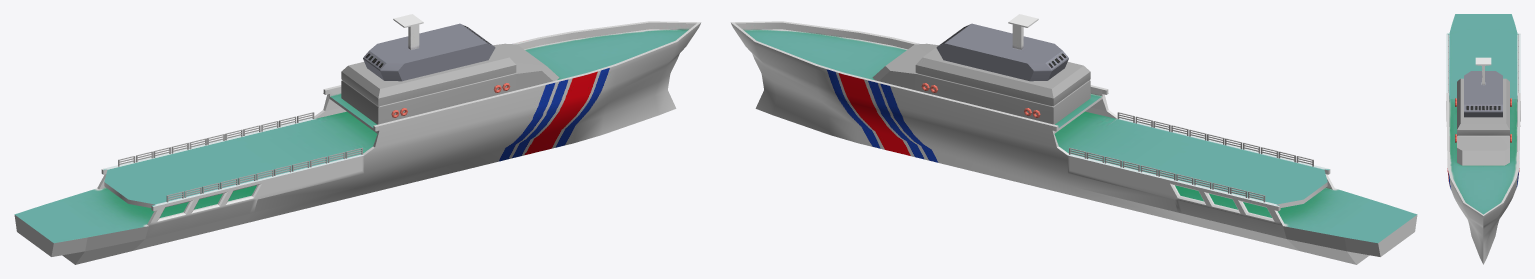
File: CCGC_Boat.glb
The picture shows the model from 3 angles, left to right: view 1: azimuth 30°, elevation 25°; view 2: azimuth 150°, elevation 25°; view 3: azimuth 270°, elevation 25°; orthographic projection. The views are drawn at different scales.
Size of the model in its own units: 15.65 by 3.44 by 2.1.
Materials: 1 (1 with a texture image).
